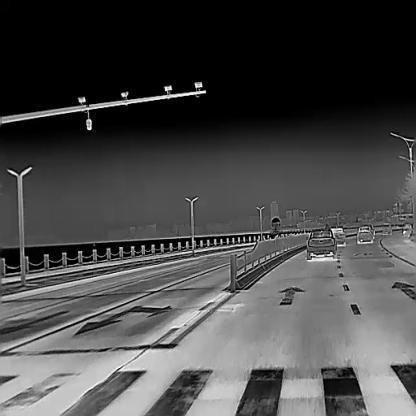car: (305, 229, 337, 259), (356, 225, 373, 242), (329, 227, 345, 245), (381, 222, 392, 234), (402, 223, 412, 234)
